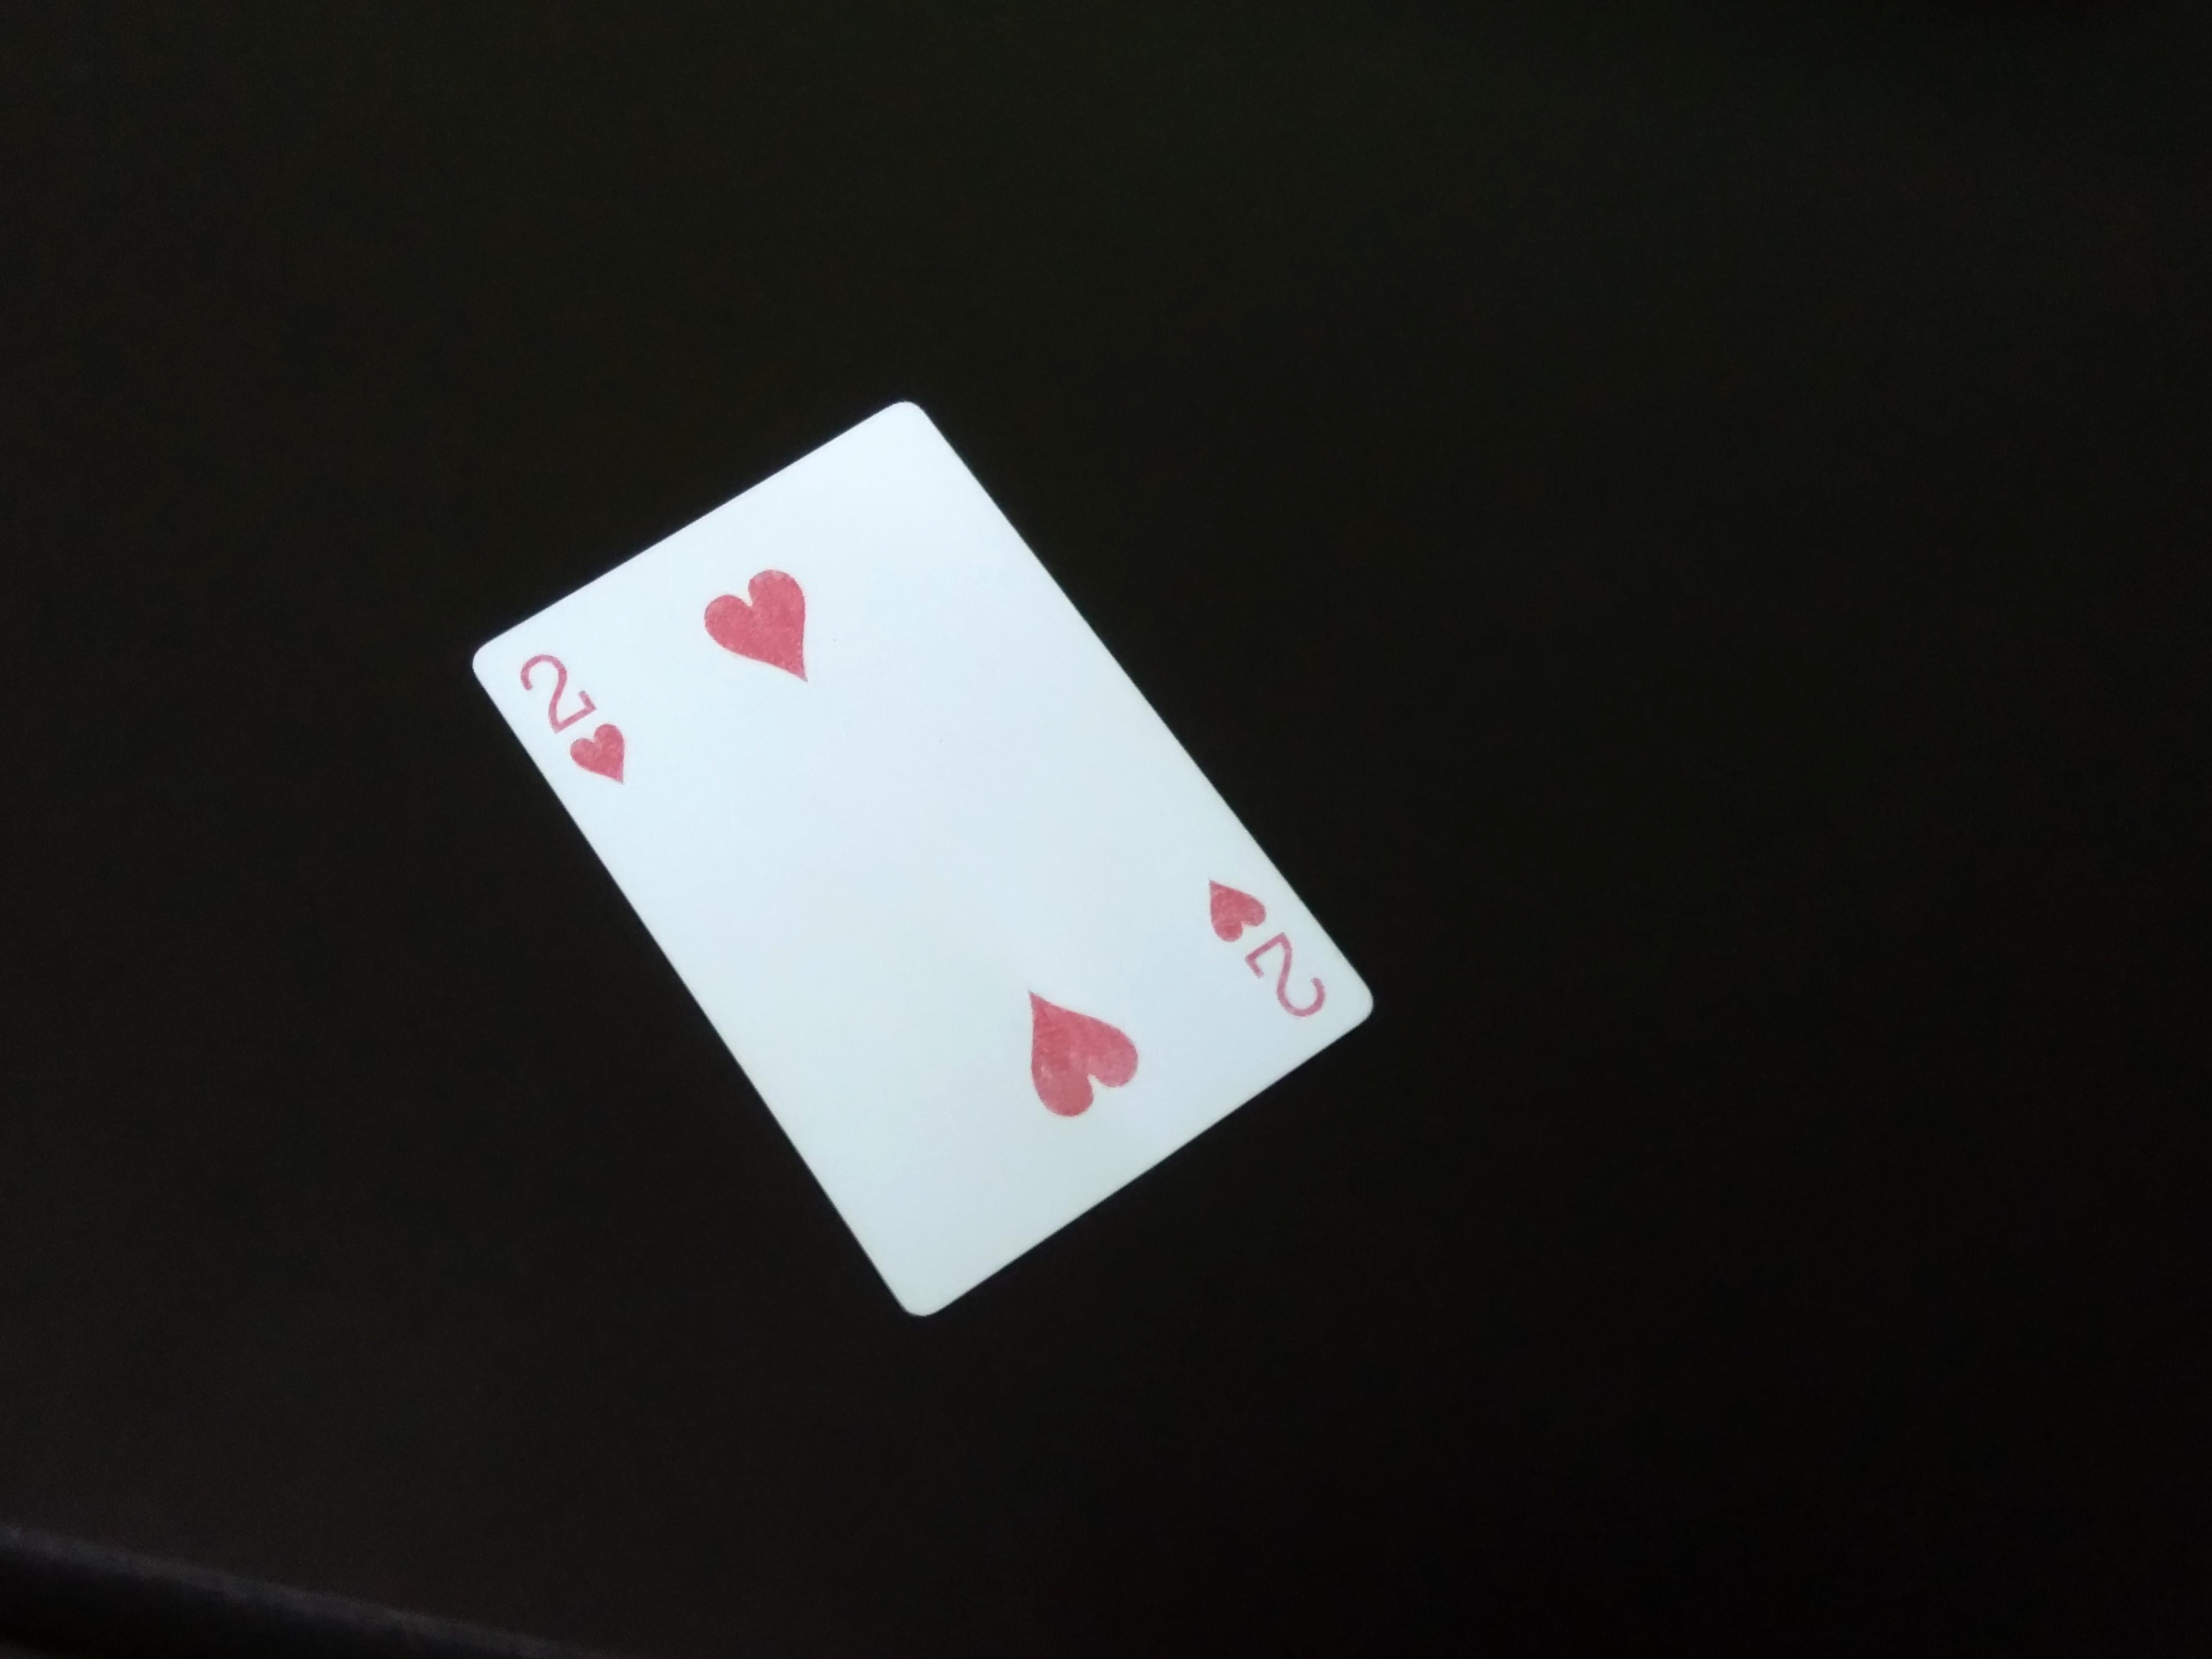2H: (496, 636, 667, 824)
